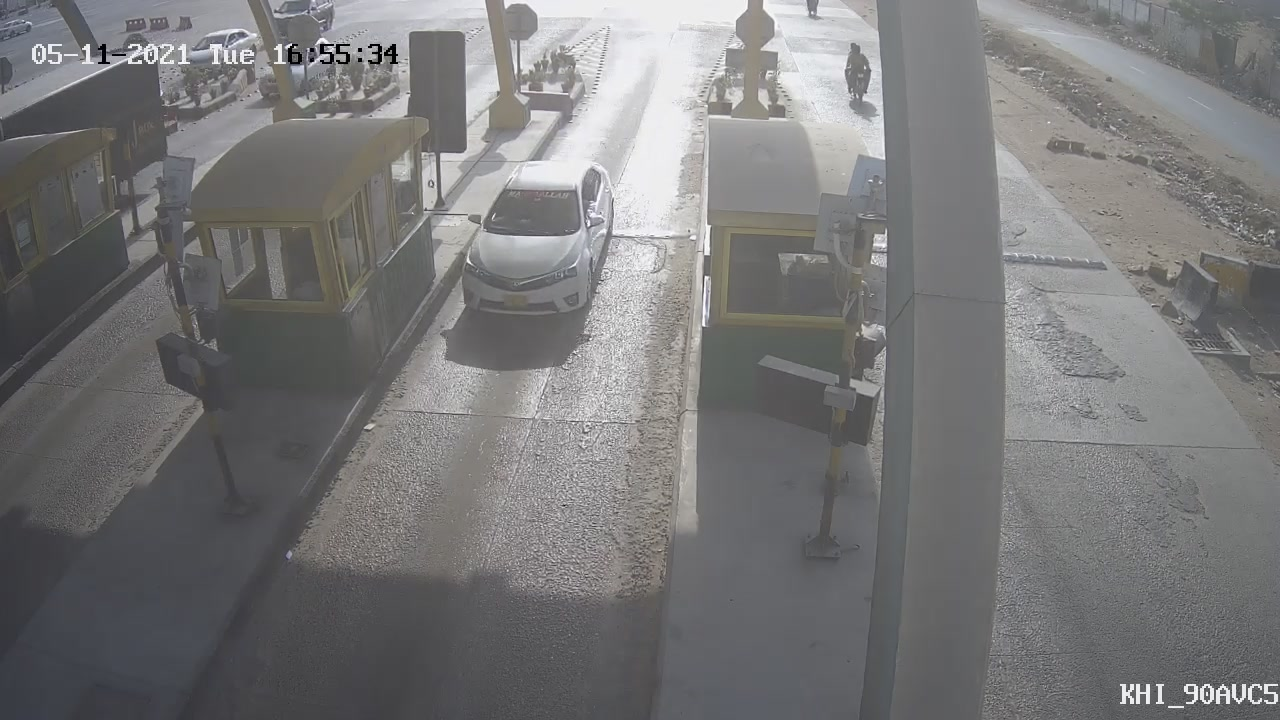F1: (440, 138, 633, 347)
